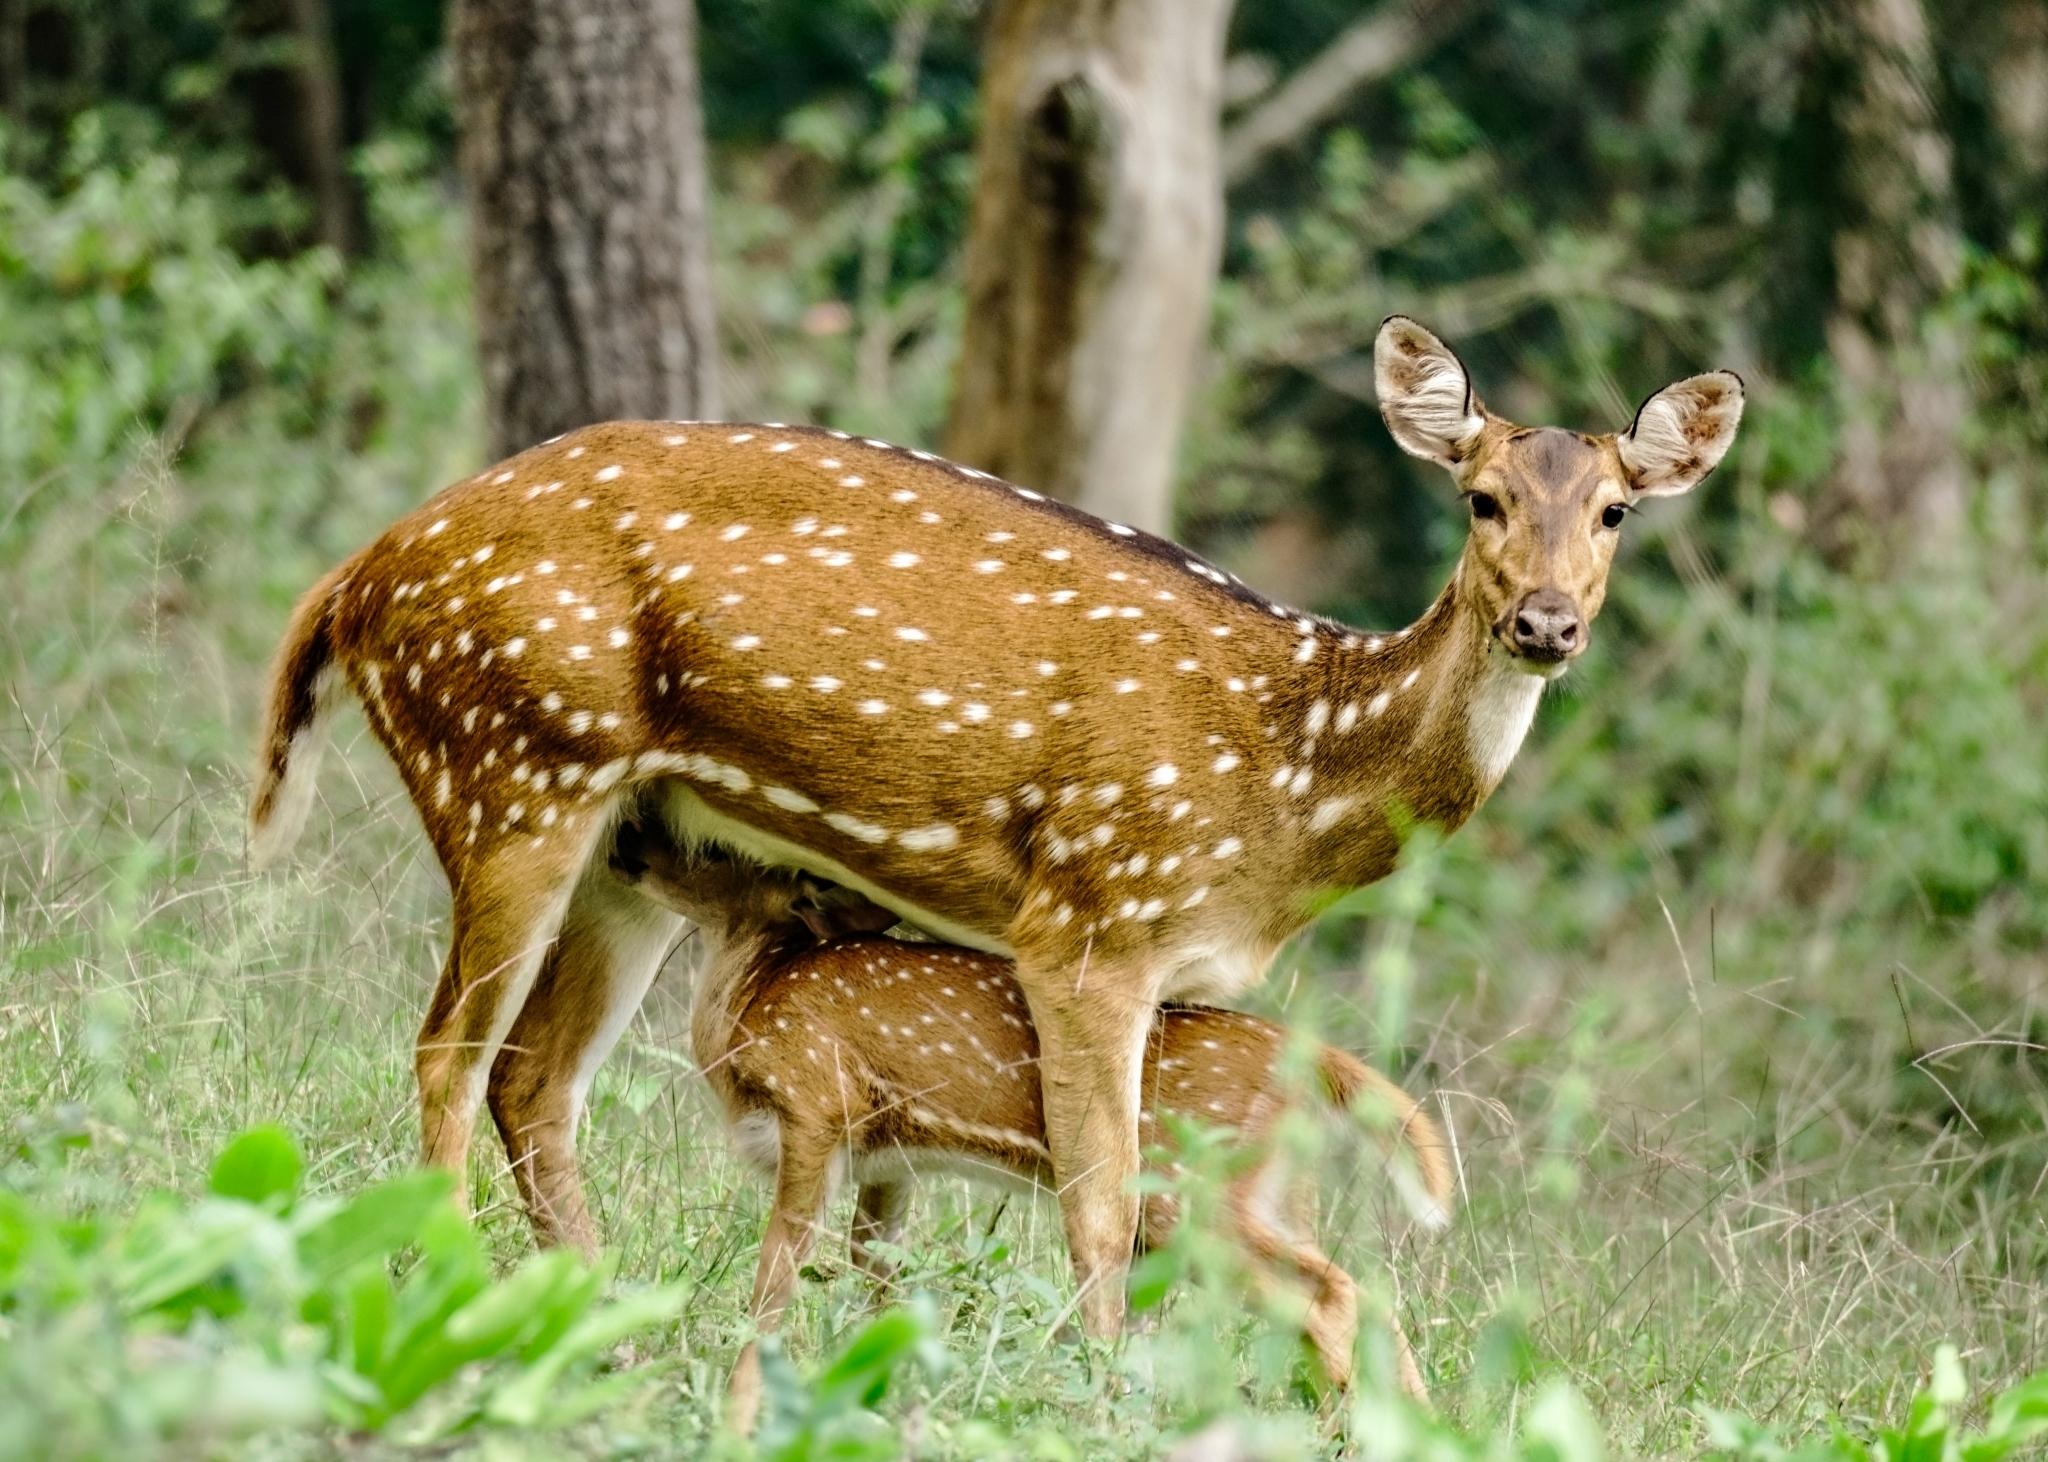Deer: (250, 316, 1744, 1324), (609, 813, 1052, 1329)
